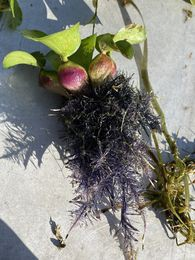water_hyacinth: (2, 17, 143, 90)
